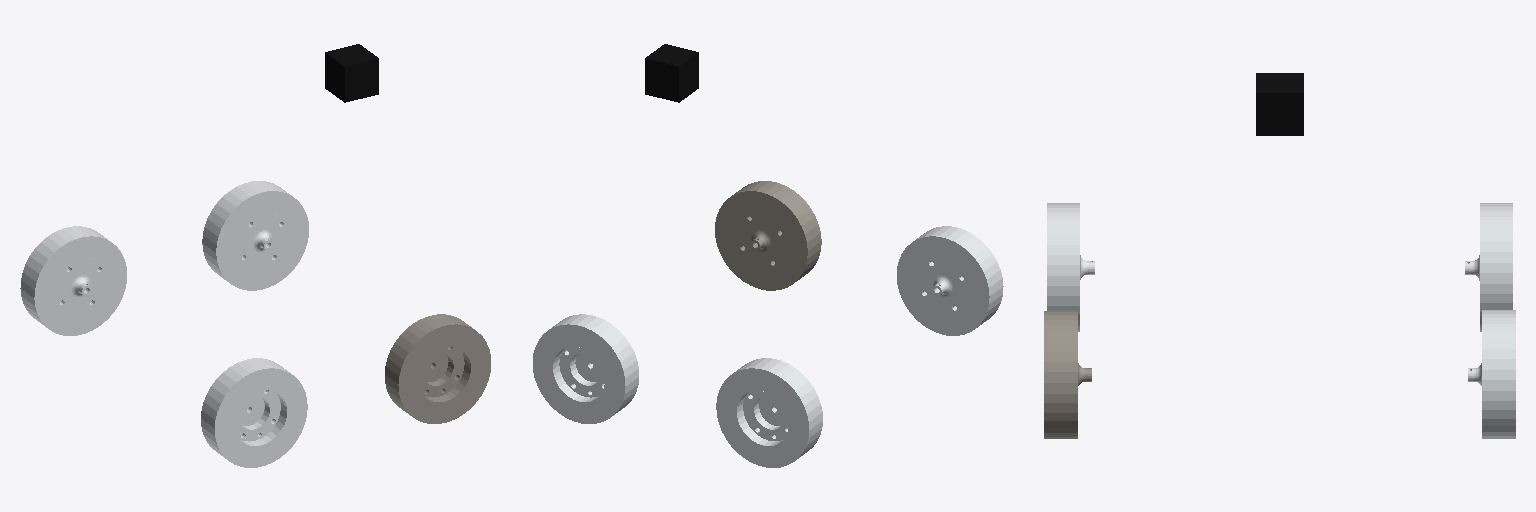
URDF robot description (URDF):
<?xml version="1.0" encoding="utf-8"?>
<!-- Simulation URDF for Gazebo (Ignition/Fortress)
     Based on new_robot.urdf — adds:
       - Continuous wheel joints (physics requires rotating joints)
       - Gazebo DiffDrive plugin  → /wheel/odometry, /tf (odom→base_footprint)
       - Gazebo IMU sensor        → /imu/data
       - Gazebo depth camera      → /camera/depth, /camera/camera_info
     Topics match real robot exactly so EKF + Nav2 configs are reused unchanged.
-->
<robot name="URDF">
  <!-- base_footprint: ground-projected virtual frame (Nav2 / EKF root) -->
  <link name="base_footprint"/>
  <joint name="base_footprint_to_base_link" type="fixed">
    <parent link="base_footprint"/>
    <child link="base_link"/>
    <origin xyz="0 0 0" rpy="0 0 0"/>
  </joint>
  <link name="base_link">
    <inertial>
      <origin
        xyz="-0.0152622090341073 2.56608773479688E-05 0.340155949397112"
        rpy="0 0 0" />
      <mass value="26.5054805614528" />
      <inertia
        ixx="0.621905792312847"
        ixy="1.75868724918625E-06"
        ixz="-9.3140526505306E-05"
        iyy="0.619709266364052"
        iyz="-1.5301943601009E-09"
        izz="0.761342270387948" />
    </inertial>
    <visual>
      <origin xyz="0 0 0" rpy="0 0 0" />
      <geometry>
        <mesh filename="package://fyp_description/meshes/base_link.STL" />
      </geometry>
      <material name="">
        <color rgba="0.752941176470588 0.752941176470588 0.752941176470588 1" />
      </material>
    </visual>
    <collision>
      <origin xyz="0 0 0" rpy="0 0 0" />
      <geometry>
        <mesh filename="package://fyp_description/meshes/base_link.STL" />
      </geometry>
    </collision>
  </link>

  <!-- ==================== WHEELS ==================== -->
  <!-- Changed from fixed → continuous for physics simulation -->

  <link name="Front_Left_Wheel">
    <inertial>
      <origin
        xyz="-1.65811249175363E-07 0.00842329502511818 -7.19923407832557E-07"
        rpy="0 0 0" />
      <mass value="1.24660668719815" />
      <inertia
        ixx="0.00160785981291804"
        ixy="-2.85289426666511E-09"
        ixz="4.38579002002994E-07"
        iyy="0.00301627129247734"
        iyz="-1.23880381920975E-08"
        izz="0.00160966377370571" />
    </inertial>
    <visual>
      <origin xyz="0 0 0" rpy="0 0 0" />
      <geometry>
        <mesh filename="package://fyp_description/meshes/Front_Left_Wheel.STL" />
      </geometry>
      <material name="">
        <color rgba="0.898039215686275 0.917647058823529 0.929411764705882 1" />
      </material>
    </visual>
    <collision>
      <origin xyz="0 0 0" rpy="0 0 0" />
      <geometry>
        <mesh filename="package://fyp_description/meshes/Front_Left_Wheel.STL" />
      </geometry>
    </collision>
  </link>
  <joint name="Front_Left_Wheel_Joint" type="continuous">
    <origin xyz="0.13257 0.2175 0.024" rpy="0 0 0" />
    <parent link="base_link" />
    <child link="Front_Left_Wheel" />
    <axis xyz="0 1 0" />
  </joint>

  <link name="Front_Right_Wheel">
    <inertial>
      <origin
        xyz="1.65811249286385E-07 -0.00842329502511807 -7.19923407860312E-07"
        rpy="0 0 0" />
      <mass value="1.24660668719815" />
      <inertia
        ixx="0.00160785981291803"
        ixy="-2.85289430643748E-09"
        ixz="-4.38579002002945E-07"
        iyy="0.00301627129247734"
        iyz="1.23880382016781E-08"
        izz="0.0016096637737057" />
    </inertial>
    <visual>
      <origin xyz="0 0 0" rpy="0 0 0" />
      <geometry>
        <mesh filename="package://fyp_description/meshes/Front_Right_Wheel.STL" />
      </geometry>
      <material name="">
        <color rgba="0.647058823529412 0.619607843137255 0.588235294117647 1" />
      </material>
    </visual>
    <collision>
      <origin xyz="0 0 0" rpy="0 0 0" />
      <geometry>
        <mesh filename="package://fyp_description/meshes/Front_Right_Wheel.STL" />
      </geometry>
    </collision>
  </link>
  <joint name="Front_Right_Wheel_Joint" type="continuous">
    <origin xyz="0.13257 -0.2175 0.024" rpy="0 0 0" />
    <parent link="base_link" />
    <child link="Front_Right_Wheel" />
    <axis xyz="0 1 0" />
  </joint>

  <link name="Lower_Left_Wheel">
    <inertial>
      <origin
        xyz="-1.65811249218731E-07 0.00842329502511807 -7.19923407832557E-07"
        rpy="0 0 0" />
      <mass value="1.24660668719815" />
      <inertia
        ixx="0.00160785981291804"
        ixy="-2.85289428634376E-09"
        ixz="4.38579002003007E-07"
        iyy="0.00301627129247734"
        iyz="-1.23880381920808E-08"
        izz="0.00160966377370571" />
    </inertial>
    <visual>
      <origin xyz="0 0 0" rpy="0 0 0" />
      <geometry>
        <mesh filename="package://fyp_description/meshes/Lower_Left_Wheel.STL" />
      </geometry>
      <material name="">
        <color rgba="0.898039215686275 0.917647058823529 0.929411764705882 1" />
      </material>
    </visual>
    <collision>
      <origin xyz="0 0 0" rpy="0 0 0" />
      <geometry>
        <mesh filename="package://fyp_description/meshes/Lower_Left_Wheel.STL" />
      </geometry>
    </collision>
  </link>
  <joint name="Lower_Left_Wheel_Joint" type="continuous">
    <origin xyz="-0.13257 0.215 0.024" rpy="0 0 0" />
    <parent link="base_link" />
    <child link="Lower_Left_Wheel" />
    <axis xyz="0 1 0" />
  </joint>

  <link name="Lower_Right_Wheel">
    <inertial>
      <origin
        xyz="1.65811248963726E-07 -0.00842329502511806 -7.19923407888068E-07"
        rpy="0 0 0" />
      <mass value="1.24660668719815" />
      <inertia
        ixx="0.00160785981291803"
        ixy="-2.85289424654725E-09"
        ixz="-4.38579002003012E-07"
        iyy="0.00301627129247734"
        iyz="1.23880382016681E-08"
        izz="0.0016096637737057" />
    </inertial>
    <visual>
      <origin xyz="0 0 0" rpy="0 0 0" />
      <geometry>
        <mesh filename="package://fyp_description/meshes/Lower_Right_Wheel.STL" />
      </geometry>
      <material name="">
        <color rgba="0.898039215686275 0.917647058823529 0.929411764705882 1" />
      </material>
    </visual>
    <collision>
      <origin xyz="0 0 0" rpy="0 0 0" />
      <geometry>
        <mesh filename="package://fyp_description/meshes/Lower_Right_Wheel.STL" />
      </geometry>
    </collision>
  </link>
  <joint name="Lower_Right_Wheel_Joint" type="continuous">
    <origin xyz="-0.13257 -0.215 0.024" rpy="0 0 0" />
    <parent link="base_link" />
    <child link="Lower_Right_Wheel" />
    <axis xyz="0 1 0" />
  </joint>

  <!-- ========== SENSOR FRAMES ========== -->

  <!-- Camera: front-center of chassis, top height -->
  <link name="camera_link">
    <visual>
      <geometry><box size="0.05 0.05 0.05"/></geometry>
      <material name="camera_black">
        <color rgba="0.1 0.1 0.1 1"/>
      </material>
    </visual>
  </link>
  <joint name="camera_joint" type="fixed">
    <parent link="base_link"/>
    <child link="camera_link"/>
    <origin xyz="0.14 0.0 0.34" rpy="0 0 0"/>
  </joint>

  <!-- Camera optical frame: Z-forward, X-right, Y-down (REP-103 optical) -->
  <link name="camera_depth_optical_frame"/>
  <joint name="camera_depth_optical_joint" type="fixed">
    <parent link="camera_link"/>
    <child link="camera_depth_optical_frame"/>
    <origin xyz="0 0 0" rpy="-1.5708 0 -1.5708"/>
  </joint>

  <!-- Scan frame: body-aligned at camera position (for depthimage_to_laserscan) -->
  <link name="scan_frame"/>
  <joint name="scan_frame_joint" type="fixed">
    <parent link="base_link"/>
    <child link="scan_frame"/>
    <origin xyz="0.14 0.0 0.34" rpy="0 0 0"/>
  </joint>

  <!-- IMU: mounted flat, aligned with robot body -->
  <link name="imu_link"/>
  <joint name="imu_joint" type="fixed">
    <parent link="base_link"/>
    <child link="imu_link"/>
    <origin xyz="0.0 0.0 0.15" rpy="0 0 0"/>
  </joint>

  <!-- ========== GAZEBO PLUGINS ========== -->

  <!-- Wheel friction (applied per-wheel) -->
  <gazebo reference="Front_Left_Wheel">
    <mu1>0.8</mu1>
    <mu2>0.8</mu2>
  </gazebo>
  <gazebo reference="Front_Right_Wheel">
    <mu1>0.8</mu1>
    <mu2>0.8</mu2>
  </gazebo>
  <gazebo reference="Lower_Left_Wheel">
    <mu1>0.8</mu1>
    <mu2>0.8</mu2>
  </gazebo>
  <gazebo reference="Lower_Right_Wheel">
    <mu1>0.8</mu1>
    <mu2>0.8</mu2>
  </gazebo>

  <!-- JointStatePublisher plugin:
       Publishes /joint_states for all continuous joints so
       robot_state_publisher can broadcast wheel TFs to RViz.
  -->
  <gazebo>
    <plugin filename="gz-sim-joint-state-publisher-system"
            name="gz::sim::systems::JointStatePublisher">
      <joint_name>Front_Left_Wheel_Joint</joint_name>
      <joint_name>Front_Right_Wheel_Joint</joint_name>
      <joint_name>Lower_Left_Wheel_Joint</joint_name>
      <joint_name>Lower_Right_Wheel_Joint</joint_name>
    </plugin>
  </gazebo>

  <!-- DiffDrive plugin:
       Subscribes to /cmd_vel (Twist)
       Publishes  /wheel/odometry (Odometry) — matches real robot topic
       Publishes  /tf (odom → base_footprint) — replaces controller_manager
  -->
  <gazebo>
    <plugin filename="gz-sim-diff-drive-system"
            name="gz::sim::systems::DiffDrive">
      <left_joint>Front_Left_Wheel_Joint</left_joint>
      <left_joint>Lower_Left_Wheel_Joint</left_joint>
      <right_joint>Front_Right_Wheel_Joint</right_joint>
      <right_joint>Lower_Right_Wheel_Joint</right_joint>
      <wheel_separation>0.435</wheel_separation>
      <wheel_radius>0.0675</wheel_radius>
      <odom_publish_frequency>50</odom_publish_frequency>
      <topic>cmd_vel</topic>
      <odom_topic>wheel/odometry</odom_topic>
      <tf_topic>tf</tf_topic>
      <frame_id>odom</frame_id>
      <child_frame_id>base_footprint</child_frame_id>
    </plugin>
  </gazebo>

  <!-- IMU sensor at imu_link → /imu/data (matches real robot topic) -->
  <gazebo reference="imu_link">
    <sensor name="imu_sensor" type="imu">
      <always_on>1</always_on>
      <update_rate>50</update_rate>
      <topic>imu/data</topic>
      <gz_frame_id>imu_link</gz_frame_id>
    </sensor>
  </gazebo>

  <!-- Depth camera at camera_link → /camera/depth, /camera/camera_info -->
  <gazebo reference="camera_link">
    <sensor name="depth_camera" type="depth_camera">
      <always_on>1</always_on>
      <update_rate>30</update_rate>
      <camera>
        <horizontal_fov>1.02974</horizontal_fov>
        <image>
          <width>640</width>
          <height>480</height>
          <format>R_FLOAT32</format>
        </image>
        <clip>
          <near>0.3</near>
          <far>8.0</far>
        </clip>
      </camera>
      <topic>camera/depth</topic>
      <gz_frame_id>camera_depth_optical_frame</gz_frame_id>
    </sensor>
  </gazebo>

</robot>

--- What the picture shows (computed from the rendered views, not written in the file) ---
The picture shows the robot from 3 angles, left to right: view 1: azimuth 30°, elevation 25°; view 2: azimuth 150°, elevation 25°; view 3: azimuth 270°, elevation 25°; orthographic projection.
Robot: URDF — 10 links, 9 joints (4 continuous, 5 fixed); root link base_footprint; default pose: every joint at zero.
Links seen in each view (by area): view 1: Lower_Right_Wheel, Front_Left_Wheel, Lower_Left_Wheel, Front_Right_Wheel, camera_link; view 2: Front_Right_Wheel, Lower_Left_Wheel, Lower_Right_Wheel, Front_Left_Wheel, camera_link; view 3: Front_Left_Wheel, Front_Right_Wheel, Lower_Right_Wheel, Lower_Left_Wheel, camera_link.
Boxes of the visible links, x1=… form: Lower_Right_Wheel: x1=201, y1=358, x2=307, y2=467; Front_Left_Wheel: x1=202, y1=181, x2=308, y2=290; Lower_Left_Wheel: x1=20, y1=226, x2=126, y2=335; Front_Right_Wheel: x1=385, y1=314, x2=490, y2=423; camera_link: x1=325, y1=44, x2=378, y2=102; Front_Right_Wheel: x1=715, y1=181, x2=821, y2=290; Lower_Left_Wheel: x1=716, y1=358, x2=822, y2=467; Lower_Right_Wheel: x1=897, y1=226, x2=1003, y2=335; Front_Left_Wheel: x1=533, y1=314, x2=638, y2=423; camera_link: x1=645, y1=44, x2=698, y2=102; Front_Left_Wheel: x1=1468, y1=310, x2=1515, y2=438; Front_Right_Wheel: x1=1044, y1=311, x2=1091, y2=438; Lower_Right_Wheel: x1=1047, y1=203, x2=1094, y2=331; Lower_Left_Wheel: x1=1465, y1=203, x2=1512, y2=331; camera_link: x1=1256, y1=73, x2=1303, y2=135.
Bounding box of the posed robot: 0.4001 × 0.493 × 0.4084 m (x, y, z).
4 mesh visuals loaded from 5 distinct referenced files (4 binary STL); not drawn: 1 (reference not matched to a file when rendering).
